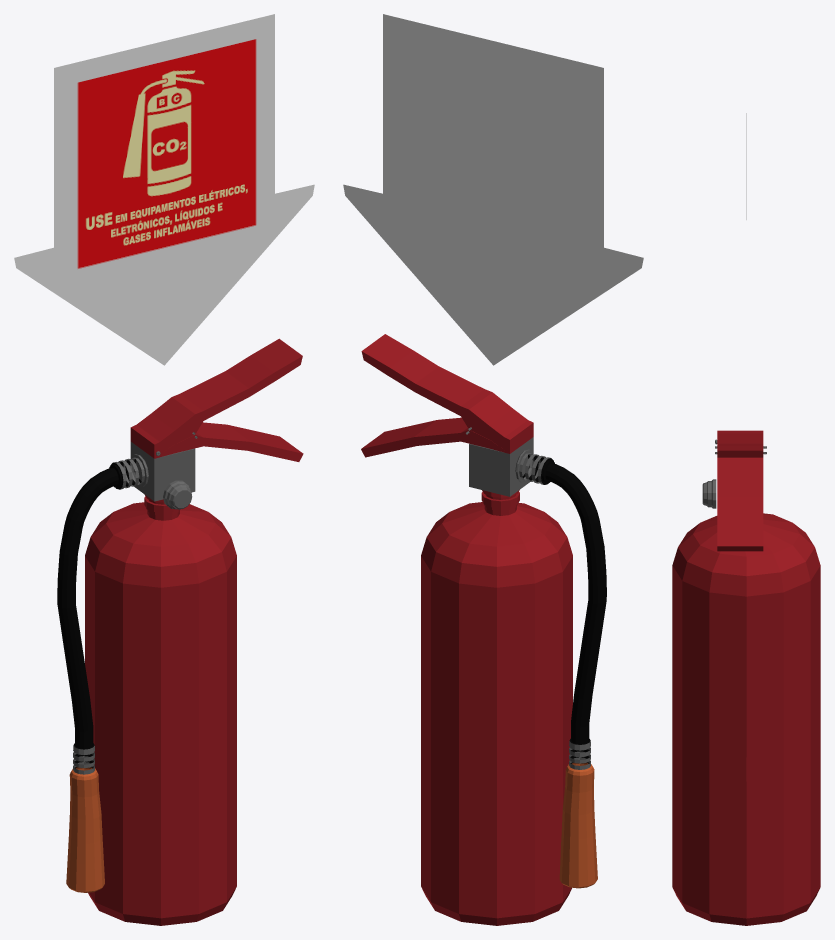
The model's file is extintorIFBAC02.fbx.
3 renders of one model, left to right at view 1: azimuth 30°, elevation 25°; view 2: azimuth 150°, elevation 25°; view 3: azimuth 270°, elevation 25°, orthographic. The views are drawn at different scales.
Parts seen in each view (by area): view 1: Circle, Plane, Plane.002, Circle.002, Cube.002, Cube.001, Cube, Circle.001; view 2: Plane.002, Circle, Circle.002, Cube.002, Cube.001, Cube; view 3: Circle, Cube.001, Cube.002, Circle.001.
Boxes of the visible parts, bbox=[...] form: Circle: bbox=[85, 494, 236, 925]; Plane: bbox=[77, 39, 256, 268]; Plane.002: bbox=[14, 14, 314, 365]; Circle.002: bbox=[57, 454, 148, 892]; Cube.002: bbox=[130, 338, 302, 458]; Cube.001: bbox=[160, 422, 303, 461]; Cube: bbox=[130, 442, 195, 501]; Circle.001: bbox=[163, 480, 192, 509]; Plane.002: bbox=[343, 14, 643, 365]; Circle: bbox=[421, 490, 572, 925]; Circle.002: bbox=[515, 449, 606, 888]; Cube.002: bbox=[361, 334, 533, 453]; Cube.001: bbox=[361, 417, 504, 457]; Cube: bbox=[469, 437, 533, 496]; Circle: bbox=[672, 513, 820, 925]; Cube.001: bbox=[717, 457, 763, 551]; Cube.002: bbox=[717, 430, 763, 457]; Circle.001: bbox=[702, 479, 716, 508].
Size of the model in its own units: 2.12 by 5.77 by 0.9284.
